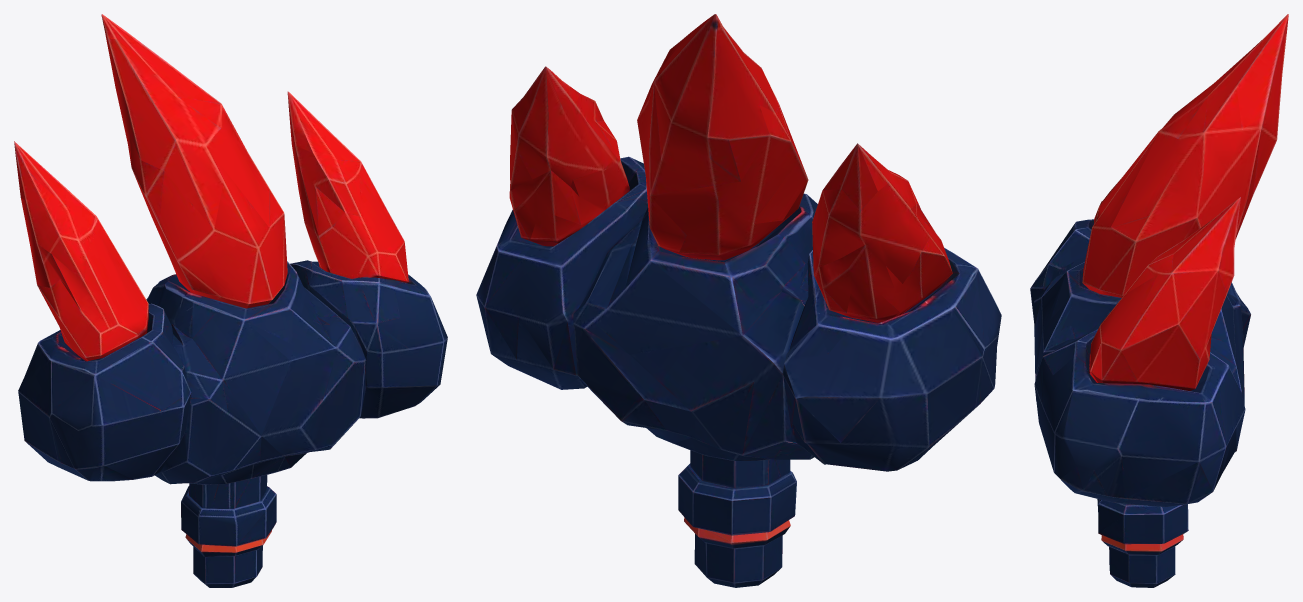
3 renders of one model, left to right at view 1: azimuth 30°, elevation 25°; view 2: azimuth 150°, elevation 25°; view 3: azimuth 270°, elevation 25°, orthographic. The views are drawn at different scales.
Visible parts, largest first — view 1: output_unwrapped; view 2: output_unwrapped; view 3: output_unwrapped.
Part boxes in pixels (x1,y1,x2,y2): output_unwrapped: (14,14,447,587); output_unwrapped: (476,14,1001,587); output_unwrapped: (1030,14,1288,587).
Size of the model in its own units: 1.45 by 1.9 by 0.8303.
1 material, 1 textured.
